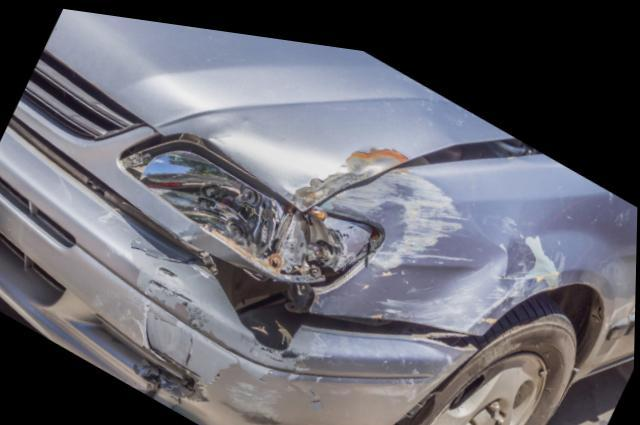crack: (140, 304, 197, 407)
dent: (372, 194, 509, 315), (271, 139, 406, 199)
dislocated part: (0, 119, 483, 425), (43, 7, 544, 198)
lamp broken: (125, 136, 386, 278)
scratch: (120, 240, 327, 424), (315, 157, 457, 212), (481, 219, 570, 303)
